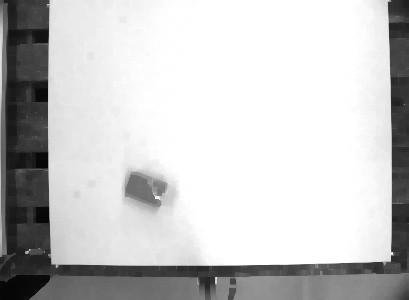b1: (123, 168, 169, 209)
